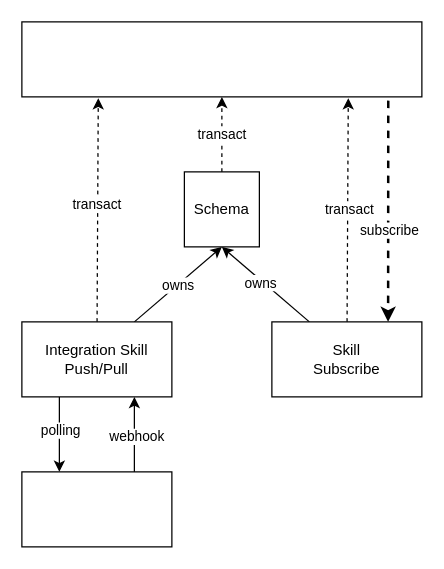
This 444x569 diagram has some shape labels left out. Each missing label, with the centre of its shape:
"Control Plane" goes at (221,59).
"World" goes at (96,509).
